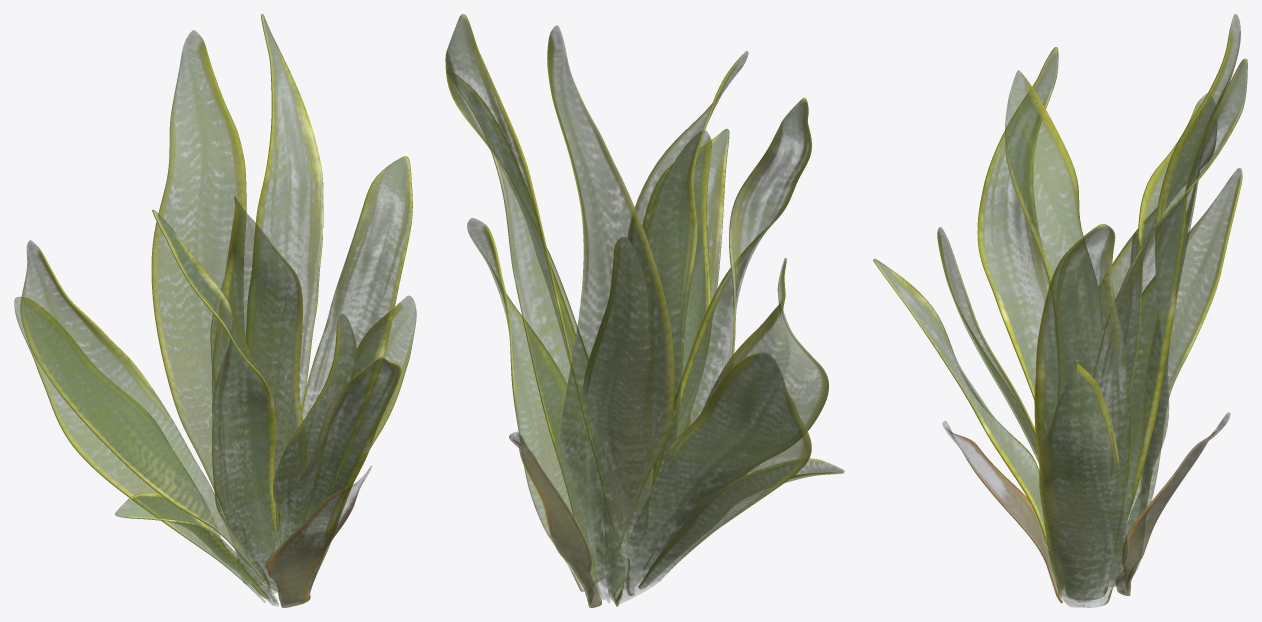
File: preview.glb
The picture shows the model from 3 angles, left to right: view 1: azimuth 30°, elevation 25°; view 2: azimuth 150°, elevation 25°; view 3: azimuth 270°, elevation 25°; orthographic projection. The views are drawn at different scales.
Visible parts, largest first — view 1: Plant_Sansevieria_trifasciata_B_Leaf_glb; view 2: Plant_Sansevieria_trifasciata_B_Leaf_glb; view 3: Plant_Sansevieria_trifasciata_B_Leaf_glb.
Boxes of the visible parts, x1=… form: Plant_Sansevieria_trifasciata_B_Leaf_glb: x1=14, y1=14, x2=416, y2=607; Plant_Sansevieria_trifasciata_B_Leaf_glb: x1=445, y1=14, x2=844, y2=607; Plant_Sansevieria_trifasciata_B_Leaf_glb: x1=873, y1=14, x2=1247, y2=607.
Size of the model in its own units: 0.3367 by 0.4899 by 0.2913.
1 material, 1 textured.
